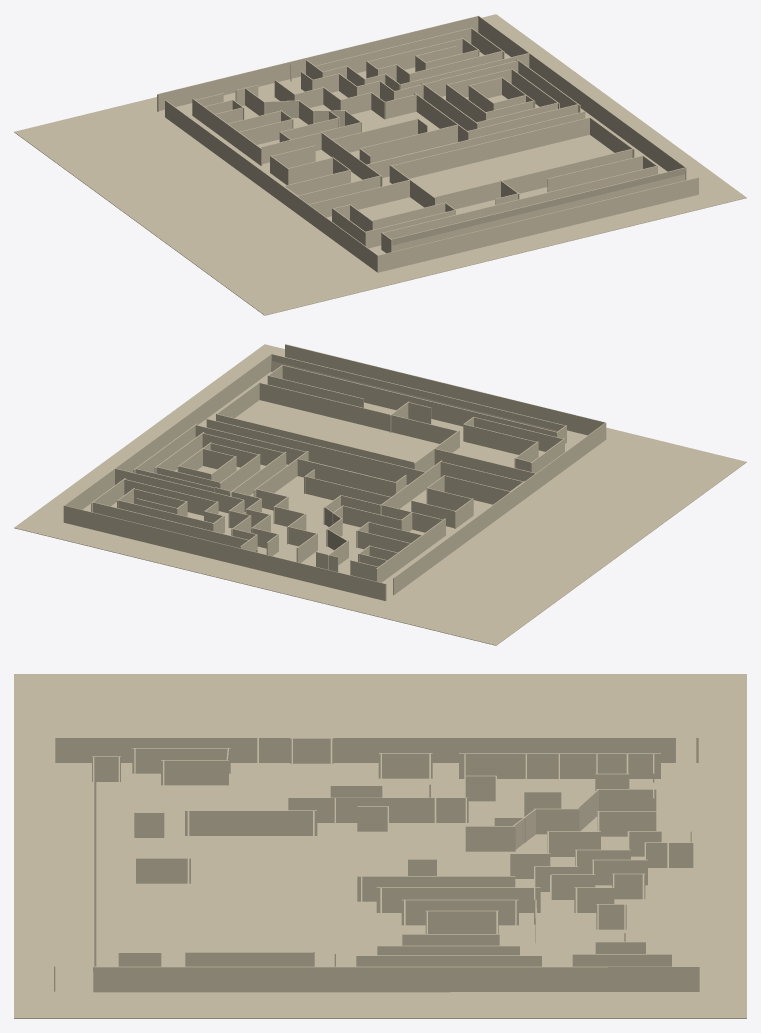
3 views of the same model, one above another, from view 1: azimuth 30°, elevation 25°; view 2: azimuth 150°, elevation 25°; view 3: azimuth 270°, elevation 25° (orthographic). The views are drawn at different scales.
Visible parts, largest first — view 1: Layer:0, Box001; view 2: Layer:0, Box001; view 3: Box001, Layer:0.
Boxes of the visible parts, <box> form: Layer:0: <box>157,15,698,272</box>; Box001: <box>14,14,746,315</box>; Layer:0: <box>63,344,606,600</box>; Box001: <box>14,344,746,645</box>; Box001: <box>14,674,746,1018</box>; Layer:0: <box>54,737,699,992</box>.
Size of the model in its own units: 219 by 8.23 by 197.
